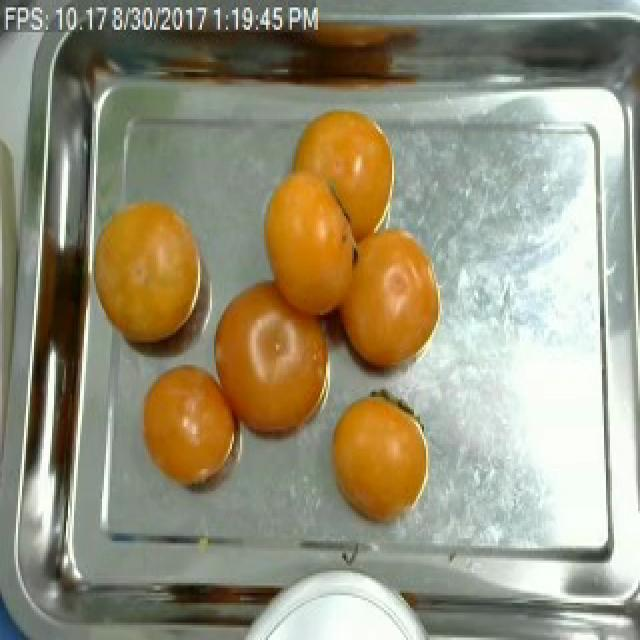Fruit: (202, 258, 342, 469), (88, 186, 212, 357), (330, 208, 448, 387), (314, 382, 440, 541), (128, 350, 254, 506), (280, 97, 402, 250)
